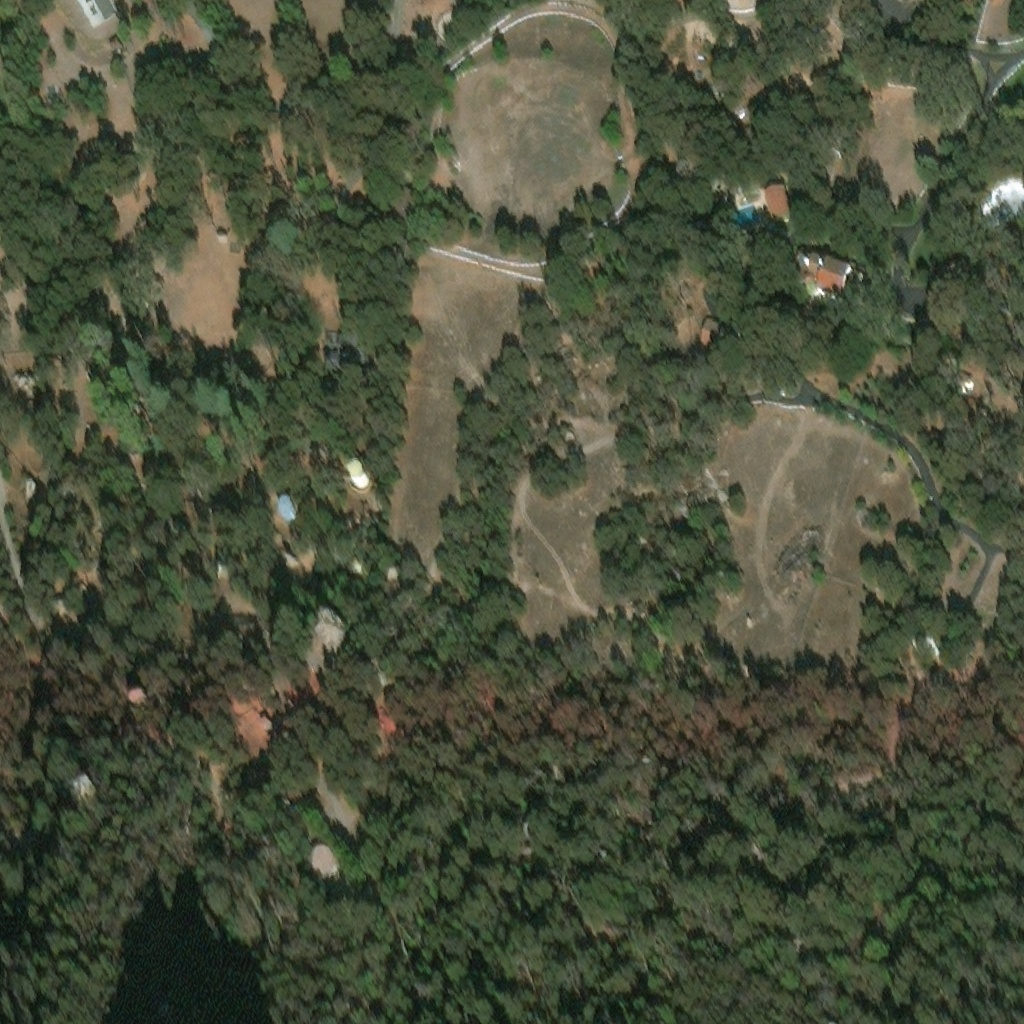0 no-damage: (798, 254, 875, 303), (324, 335, 365, 371), (766, 187, 792, 223), (699, 318, 725, 351), (307, 843, 334, 873), (280, 499, 298, 518), (351, 460, 367, 477), (110, 37, 122, 49)
